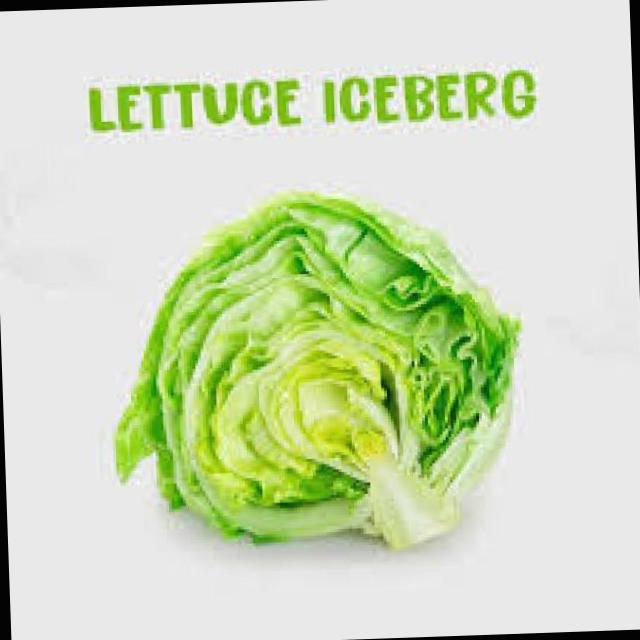Lettuce-Ready-to-Harvest: (115, 192, 519, 548)
